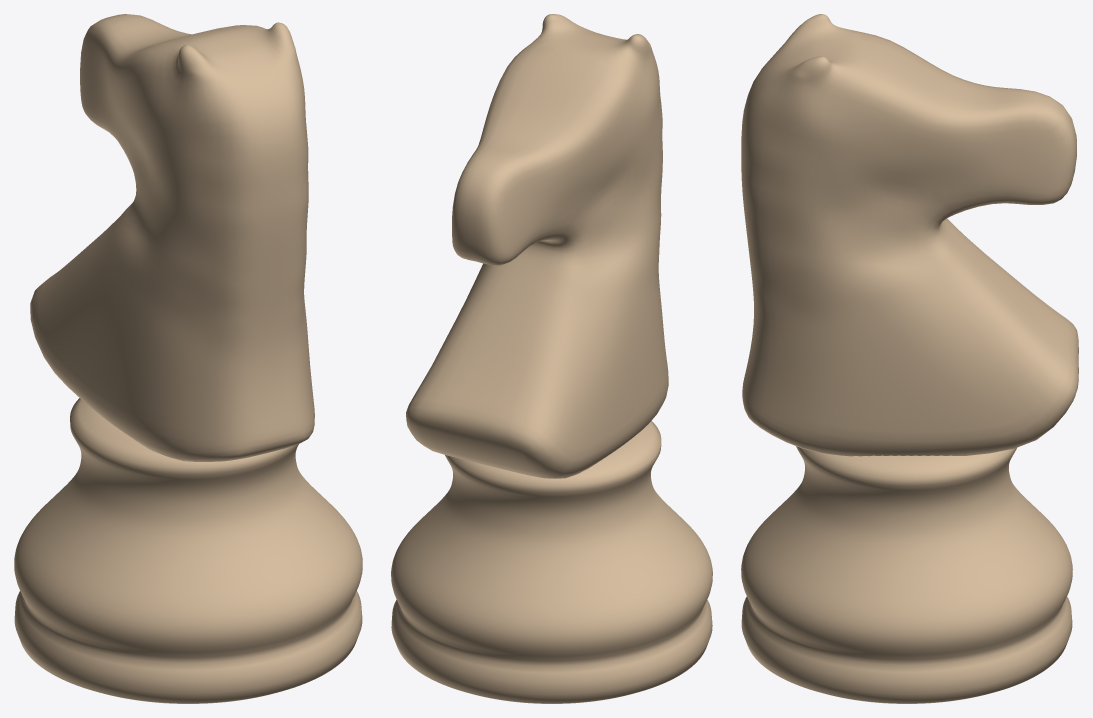
The model's file is knight.glb.
3 views of the same model, side by side, from view 1: azimuth 30°, elevation 25°; view 2: azimuth 150°, elevation 25°; view 3: azimuth 270°, elevation 25° (orthographic). The views are drawn at different scales.
Visible parts, largest first — view 1: White Horse B1; view 2: White Horse B1; view 3: White Horse B1.
Boxes of the visible parts, x1,y1,x2,y2 form: White Horse B1: [14, 14, 362, 703]; White Horse B1: [391, 14, 712, 703]; White Horse B1: [741, 14, 1078, 703].
Size of the model in its own units: 0.1458 by 0.293 by 0.1485.
